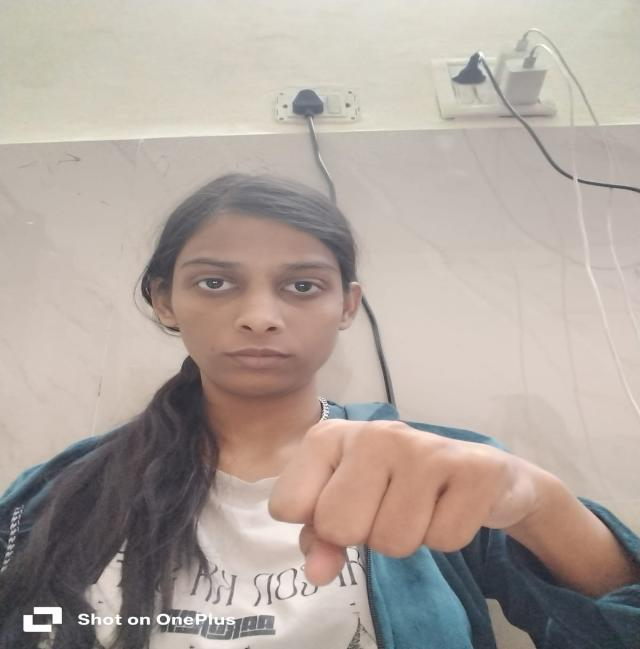Yes: (258, 404, 564, 594)
